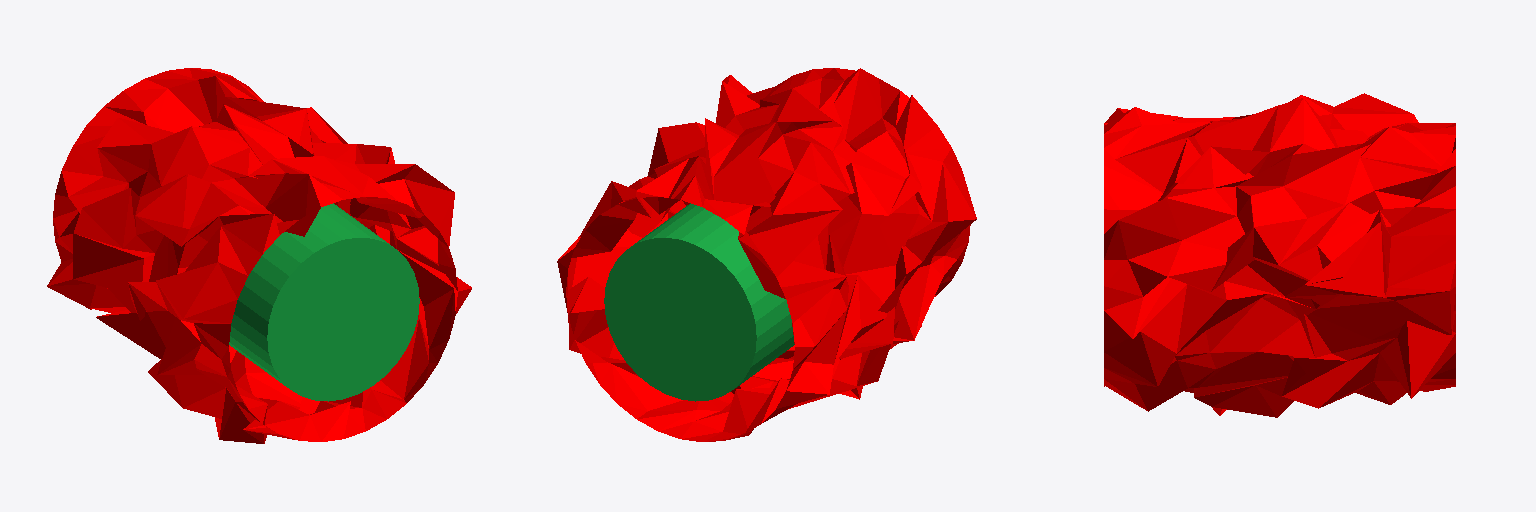
3 views of the same model, side by side, from view 1: azimuth 30°, elevation 25°; view 2: azimuth 150°, elevation 25°; view 3: azimuth 270°, elevation 25° (orthographic).
Parts seen in each view (by area): view 1: Cylinder; view 2: Cylinder; view 3: Cylinder.
Part boxes in pixels (bbox=[...]): Cylinder: bbox=[47, 68, 471, 443]; Cylinder: bbox=[557, 68, 976, 441]; Cylinder: bbox=[1104, 93, 1455, 417].
Bounding box in the file's own units: 1.88 × 1.86 × 2.
2 materials, 2 textured.